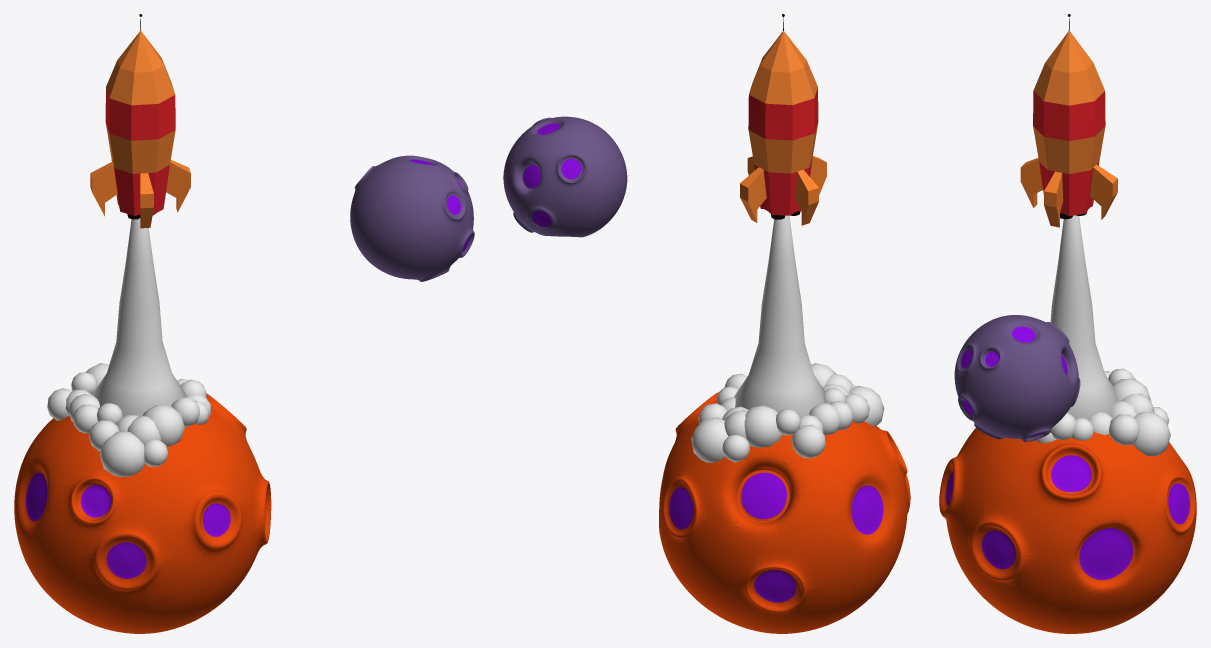
Rendered from PlanetogRaket3.fbx.
3 views of the same model, side by side, from view 1: azimuth 30°, elevation 25°; view 2: azimuth 150°, elevation 25°; view 3: azimuth 270°, elevation 25° (orthographic).
Parts seen in each view (by area): view 1: StorPlanet, LillePlanet, NyRakert, Cylinder.004, Icosphere.001; view 2: StorPlanet, LillePlanet, NyRakert, Icosphere.001, Cylinder.004; view 3: StorPlanet, LillePlanet, NyRakert, Cylinder.004, Icosphere.001.
Part boxes in pixels (x1,y1,x2,y2): StorPlanet: (14,394,271,633); LillePlanet: (350,155,474,281); NyRakert: (90,14,190,228); Cylinder.004: (92,218,186,416); Icosphere.001: (47,363,210,476); StorPlanet: (659,392,910,633); LillePlanet: (503,116,627,237); NyRakert: (740,14,826,225); Icosphere.001: (691,363,884,462); Cylinder.004: (734,215,824,416); StorPlanet: (939,428,1196,633); LillePlanet: (954,315,1080,441); NyRakert: (1020,14,1117,227); Cylinder.004: (1050,215,1118,421); Icosphere.001: (1035,368,1170,456).
Bounding box in the file's own units: 367 × 525 × 201.
4 materials, 1 textured.
